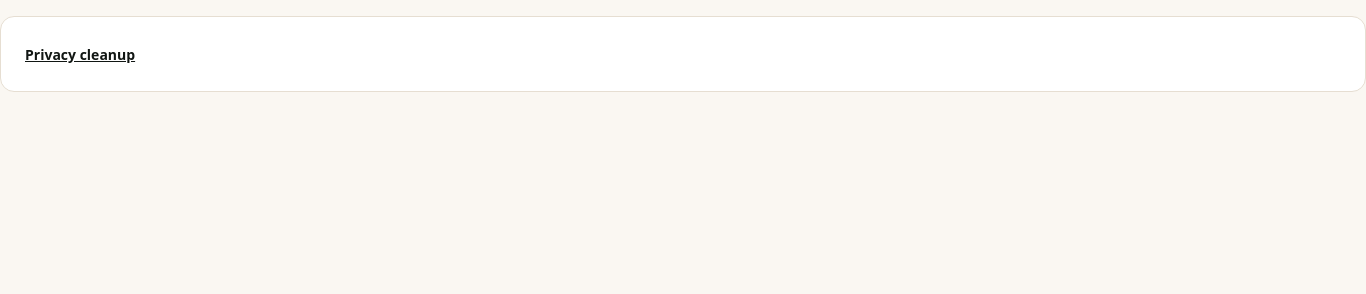
Test case: operator privacy cleanup › keeps completion feedback visible after refetch removes the finished job
Click the button "Privacy cleanup" at (80, 55), box [25,45,135,65]
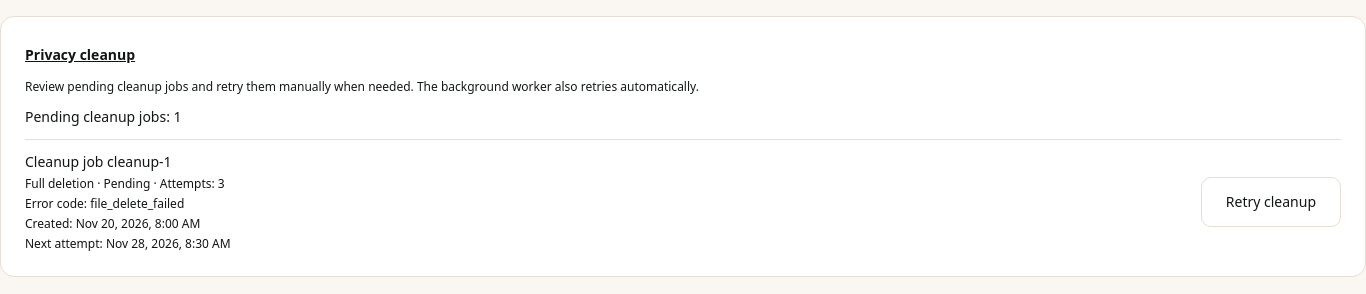
Click the button "Retry cleanup" at (1271, 202), box [1201,177,1341,227]
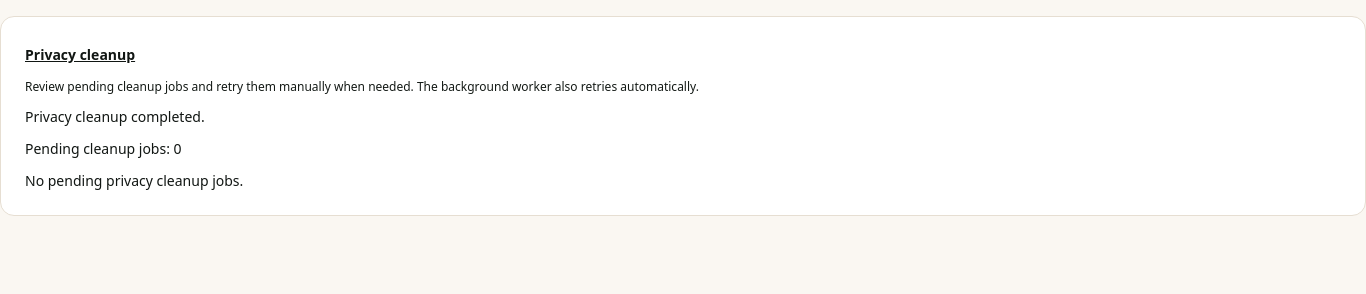
Now the text "Privacy cleanup completed." is shown, box [25,107,205,126]
Now the text "No pending privacy cleanup jobs." is shown, box [25,171,243,190]
Now the text "Pending cleanup jobs: 0" is shown, box [25,139,182,158]
